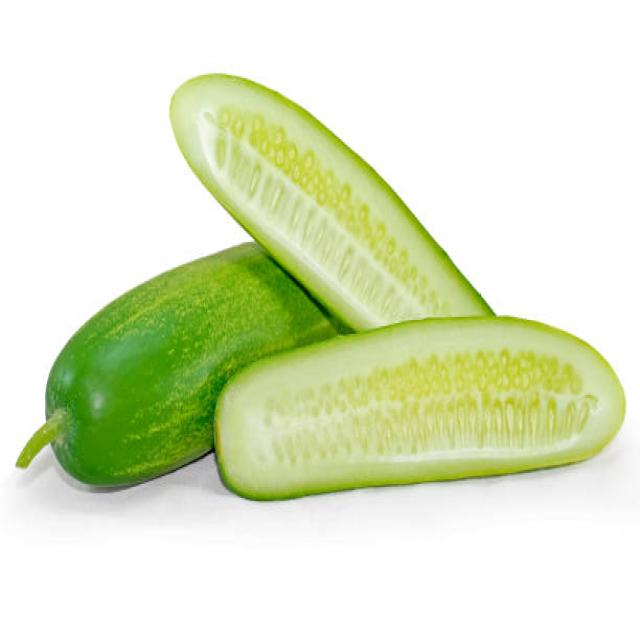cucumber: (214, 313, 625, 501), (45, 243, 339, 486)
